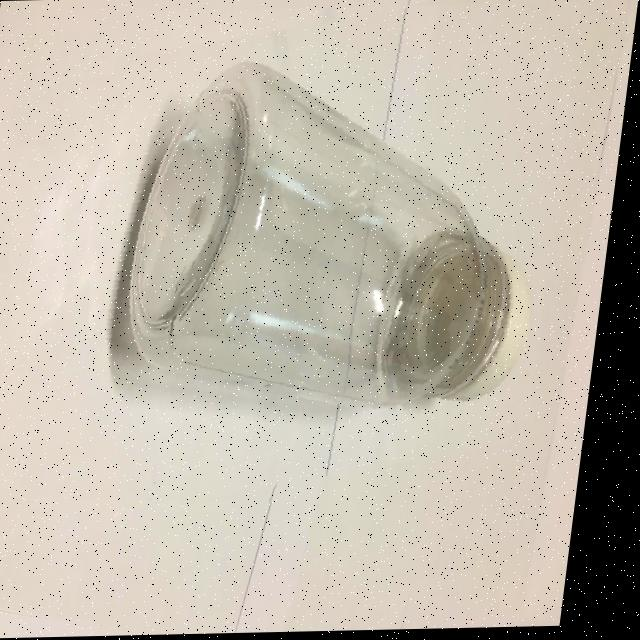litter: (26, 4, 581, 519), (389, 305, 511, 465)
